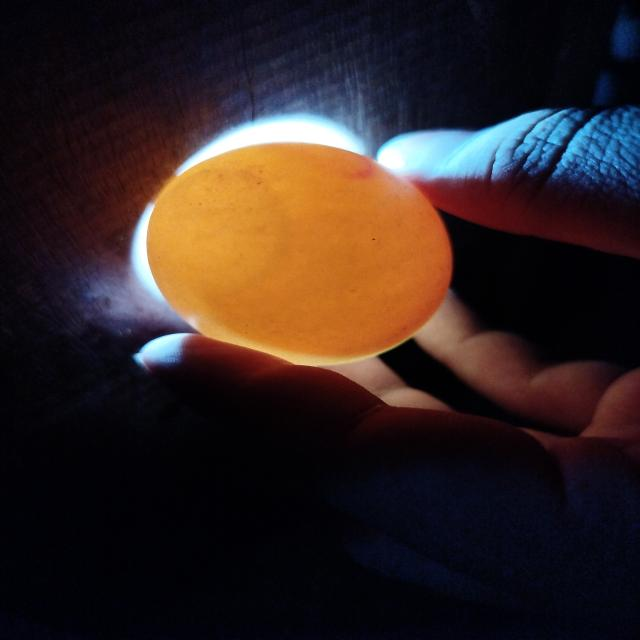Camara de Ar: (147, 168, 289, 301)
